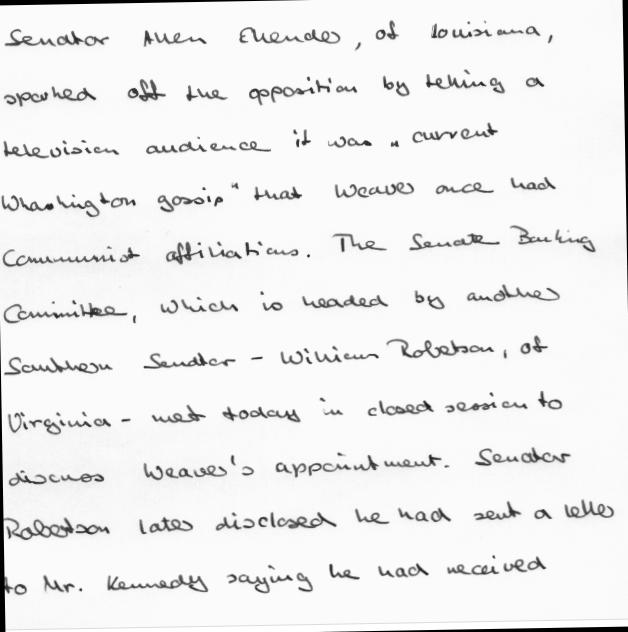text: (0, 10, 558, 64), (3, 496, 619, 544), (0, 220, 597, 269), (3, 386, 565, 438), (4, 549, 545, 603), (5, 444, 574, 494), (0, 171, 561, 220), (0, 65, 548, 111), (0, 282, 564, 326), (1, 332, 551, 376), (0, 114, 502, 161)
